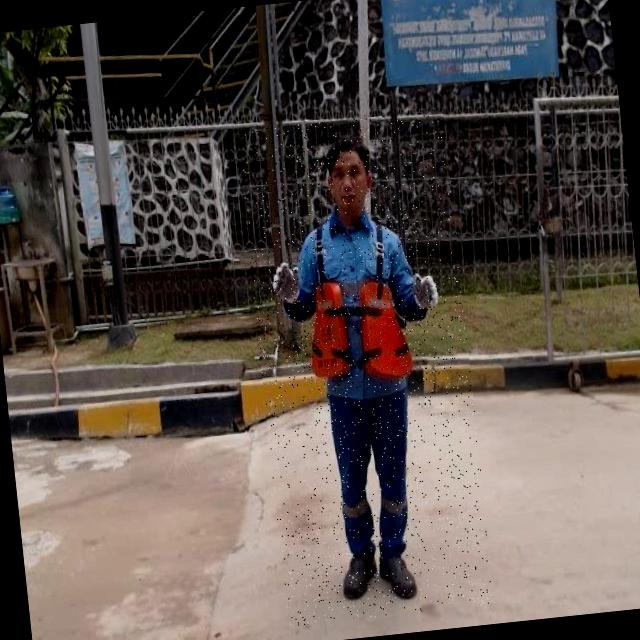boots: (334, 546, 379, 608), (373, 548, 420, 606)
gloves: (395, 247, 455, 335), (252, 248, 313, 328)
no-helmet: (304, 130, 396, 236)
vest: (304, 275, 412, 390)
